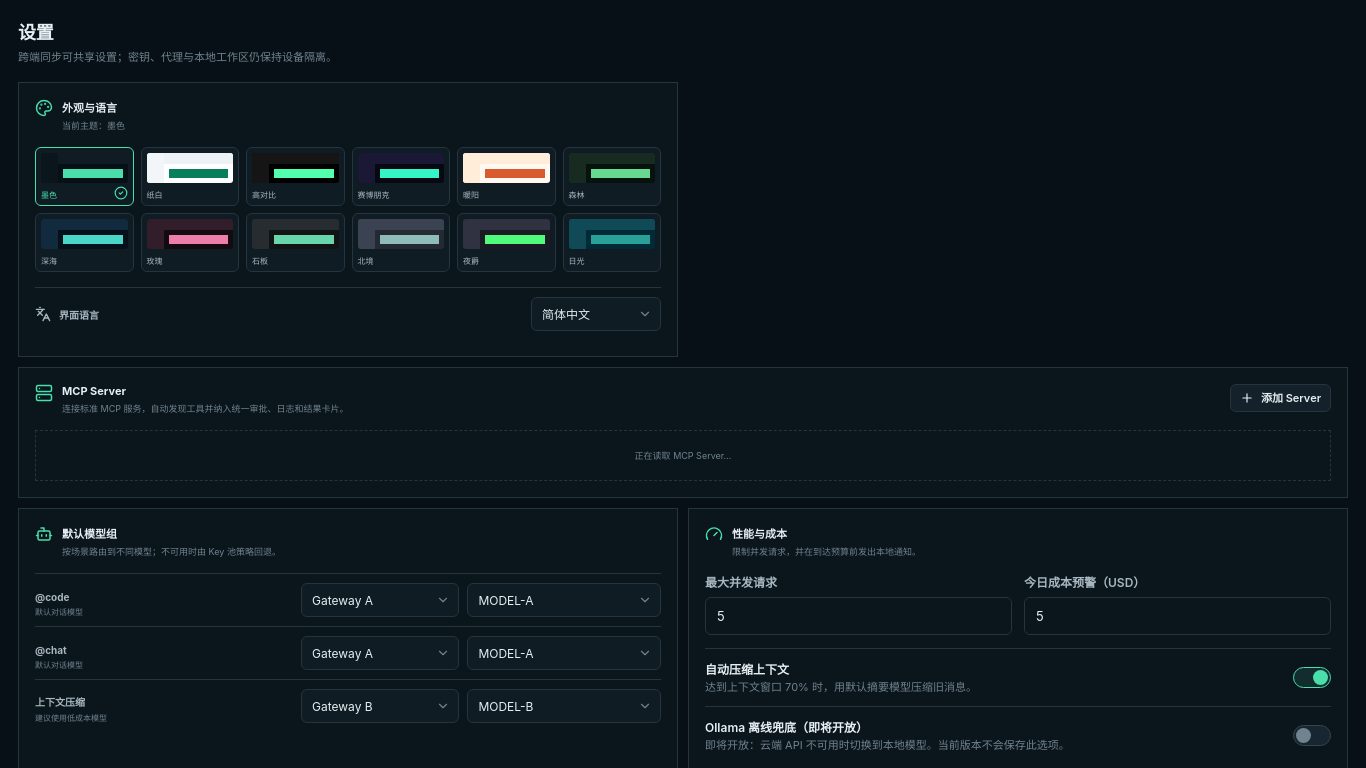
it: SettingsPage › 默认模型按服务商级联筛选，并保存当前场景的模型
The image size is (1366, 768).
Select "Gateway B" in the dropdown named "@code 服务商" at (380,600), box [301,583,459,617]
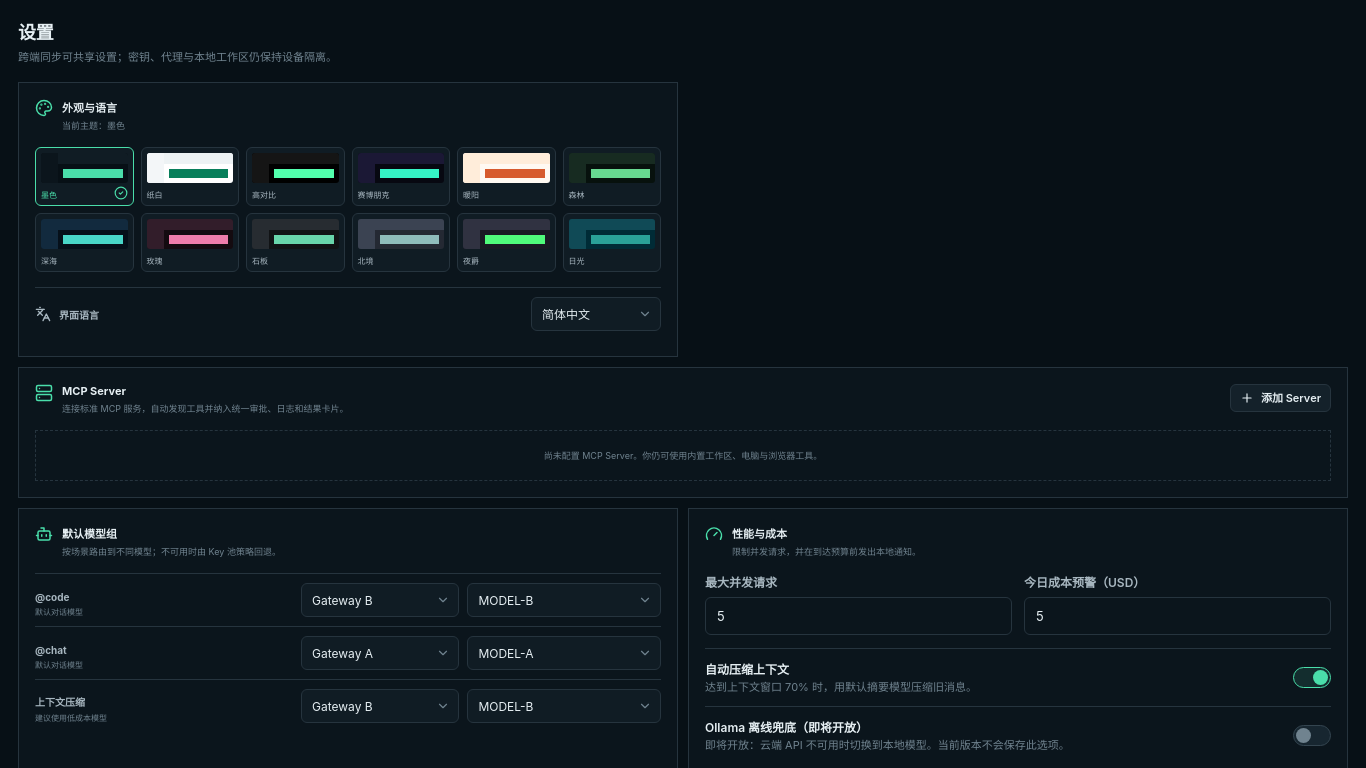
Check: the dropdown named "@code 模型" shows "MODEL-B", box [467,583,661,617]
